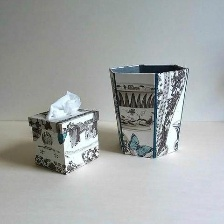plastic_box: (104, 58, 195, 162), (23, 103, 104, 178)
tissue: (41, 86, 87, 124)
